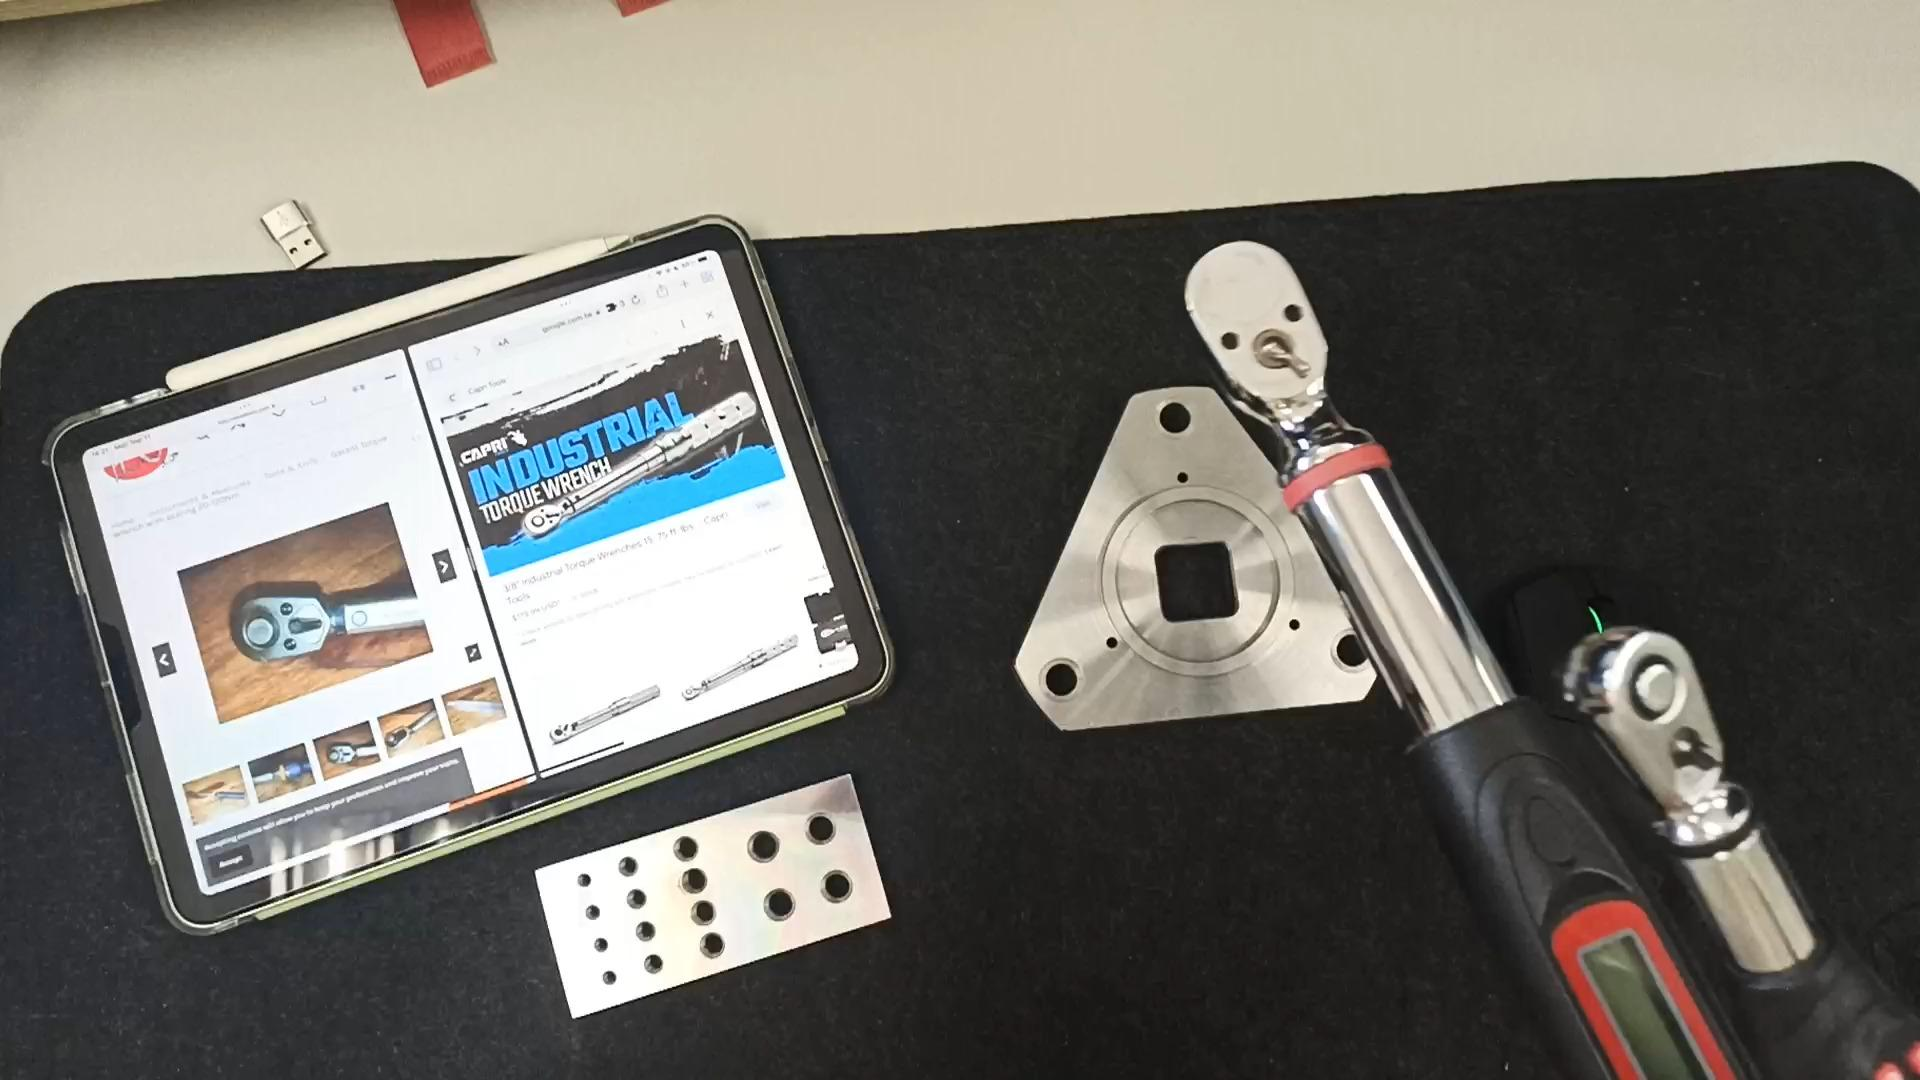Tool: (1547, 615, 1749, 827), (1164, 235, 1358, 442), (220, 580, 339, 674), (520, 501, 572, 539)
hole: (1018, 658, 1087, 705), (1133, 398, 1203, 443), (1323, 624, 1373, 679), (803, 870, 866, 913), (727, 825, 790, 866), (782, 814, 844, 852), (750, 890, 810, 930), (659, 836, 715, 869), (669, 868, 721, 899), (687, 932, 738, 963), (680, 903, 731, 932), (613, 886, 658, 911), (603, 857, 646, 881), (624, 923, 665, 945), (642, 957, 683, 980), (585, 936, 622, 956), (574, 906, 611, 926), (567, 872, 603, 891), (593, 971, 628, 990)
